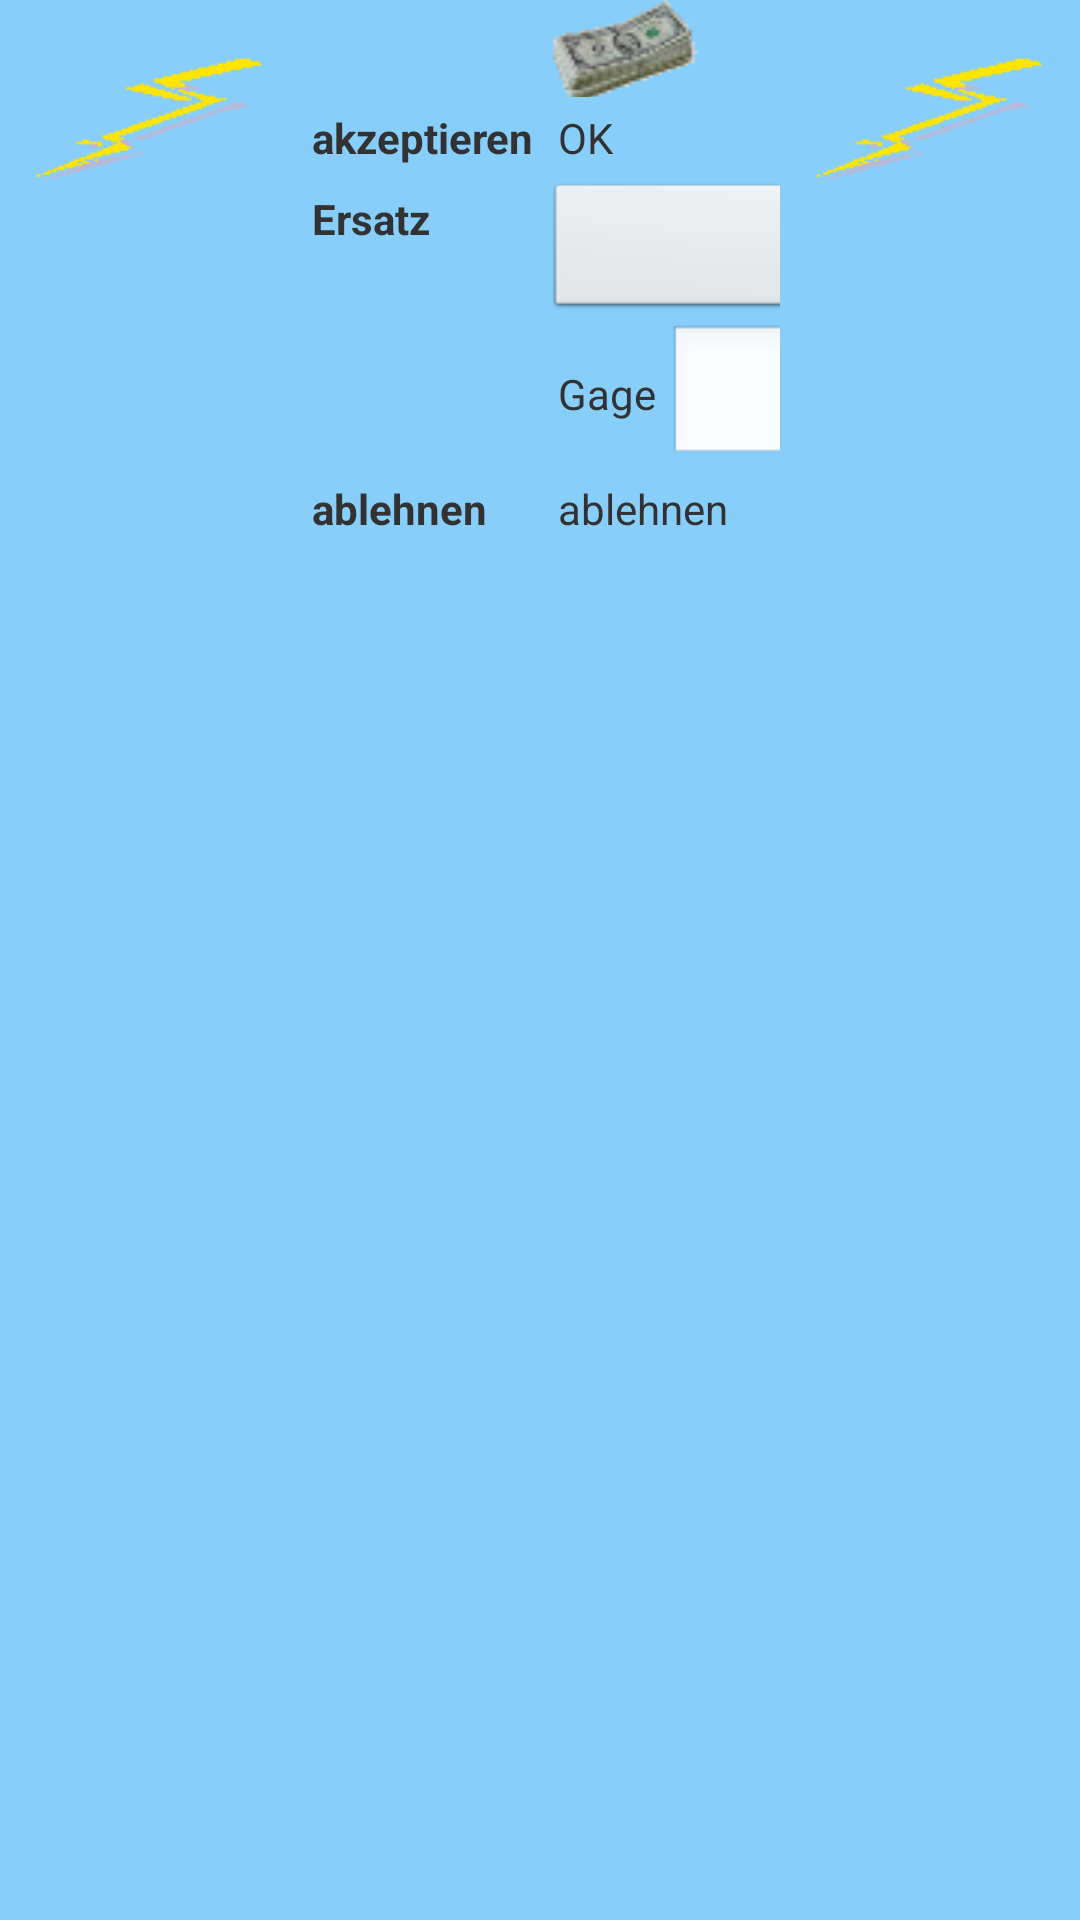

Point at icon controls on the screen. Image size 1080px×1920px, points as [x,y].
lightening: [149,119], [929,119]
money: [625,48]
